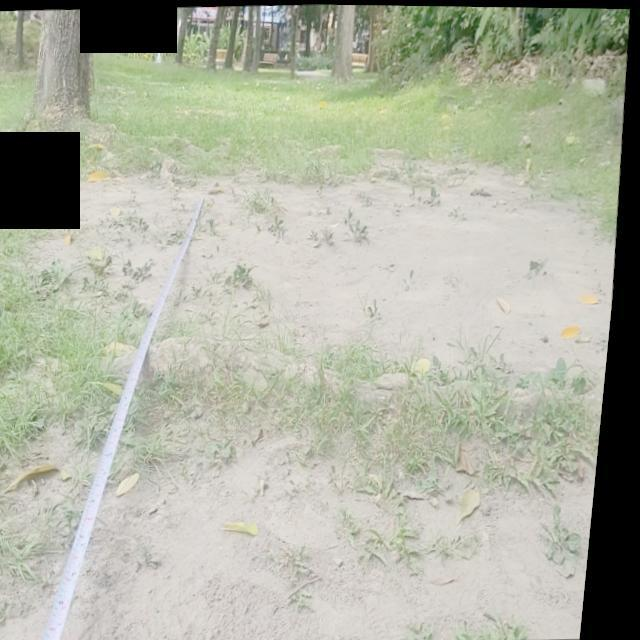Tree: (8, 8, 134, 157), (326, 5, 364, 88), (204, 7, 229, 76), (171, 7, 196, 72), (285, 5, 302, 85), (240, 6, 259, 75), (226, 7, 242, 72), (250, 6, 264, 75)
